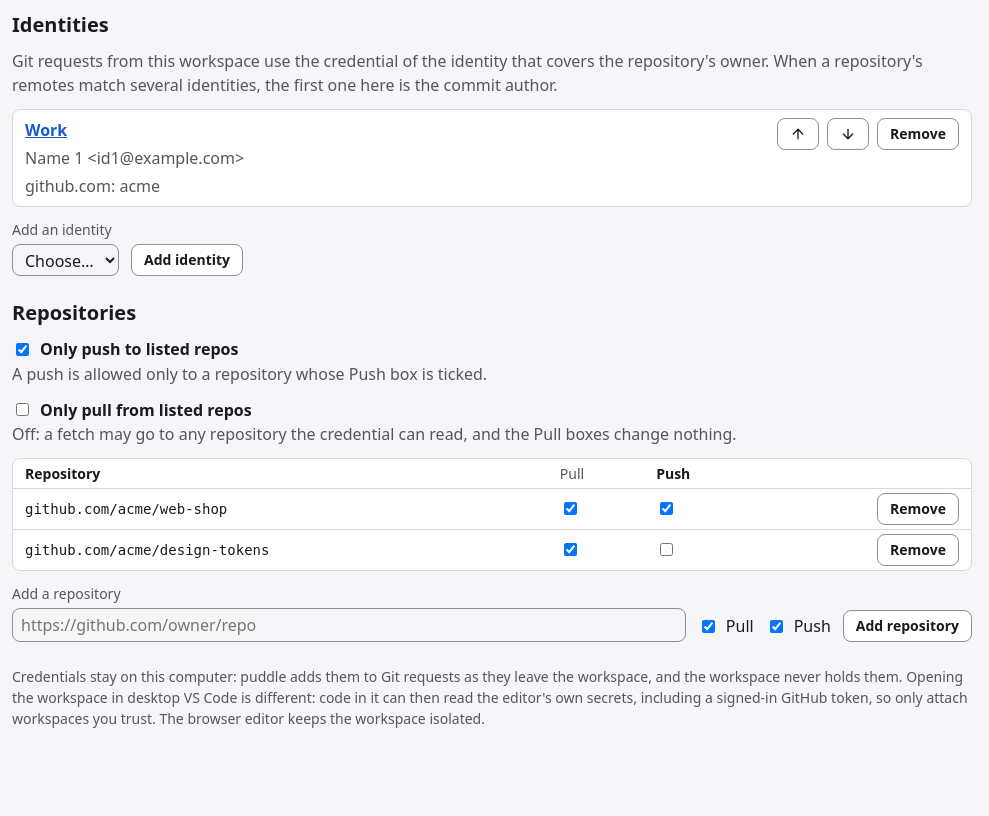
identities on a workspace › adds an identity from those not on it, last
The width and height of the screenshot is (989, 816).
Expected: the heading "Identities" is shown, [12,11,109,38]
Expected: the table is shown, [13,459,971,570]
Step 1. Select "Personal" in the dropdown labelled "Add an identity" → {"x": 66, "y": 260}, box [12,244,119,276]
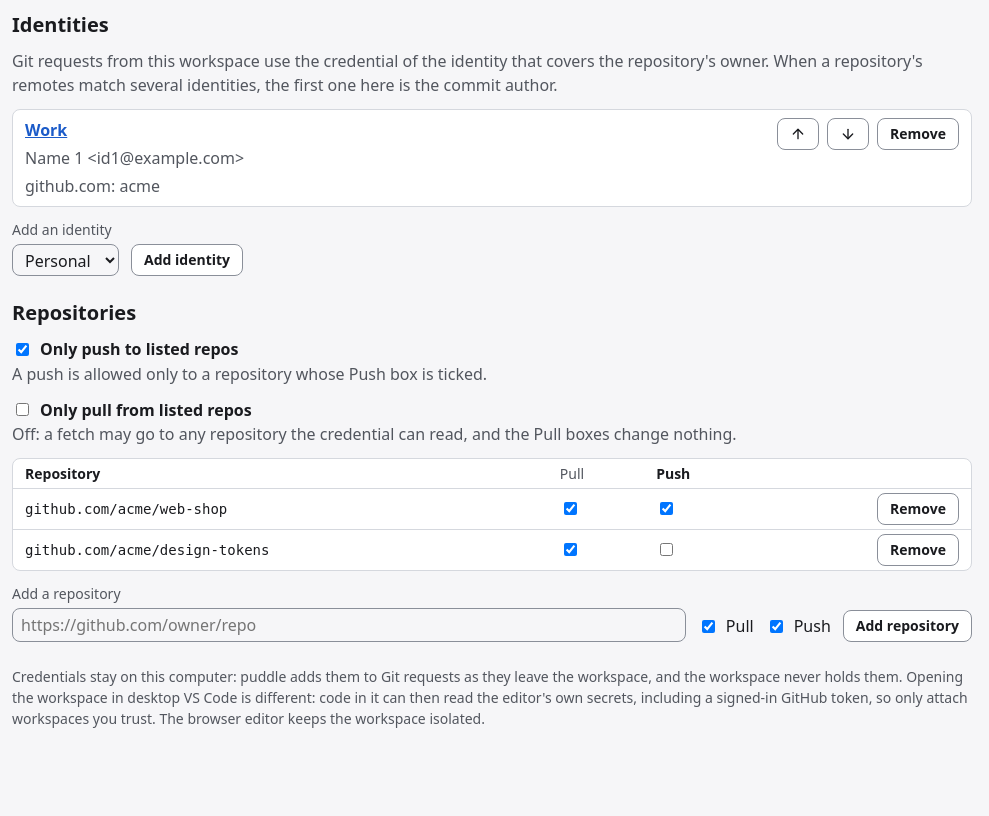
Step 2. Click the button "Add identity" → {"x": 187, "y": 260}, box [131,244,243,276]
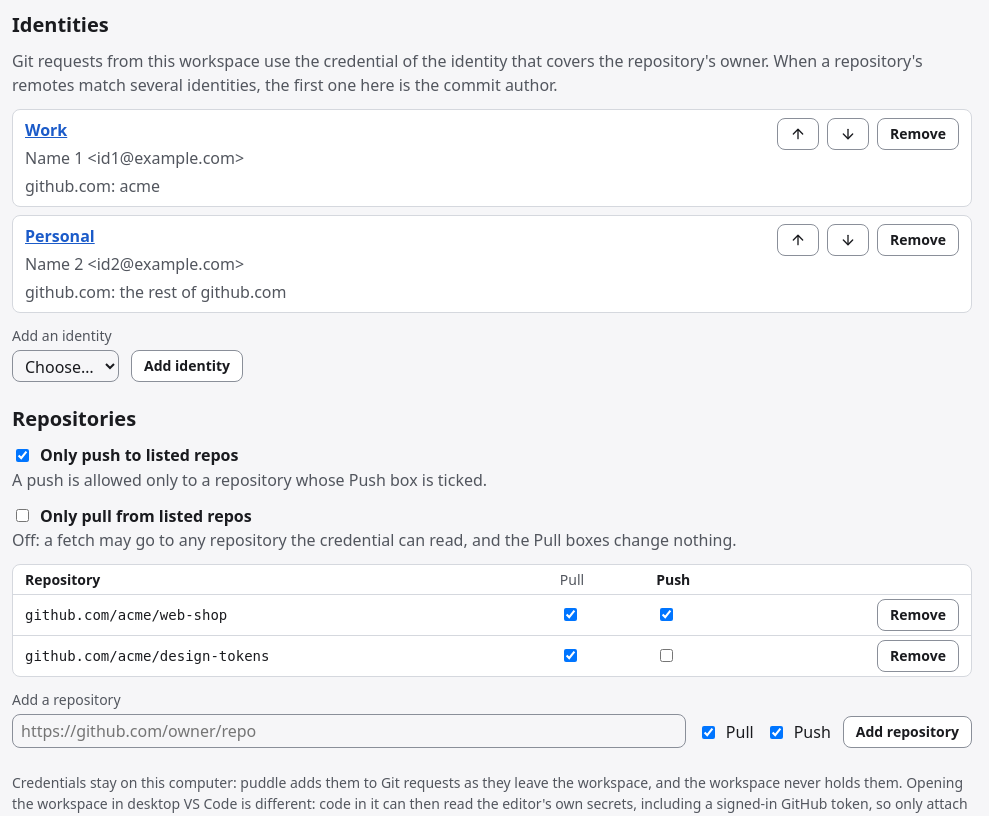
Now the number of list items is 2, box [12,109,972,207]; [12,215,972,313]
